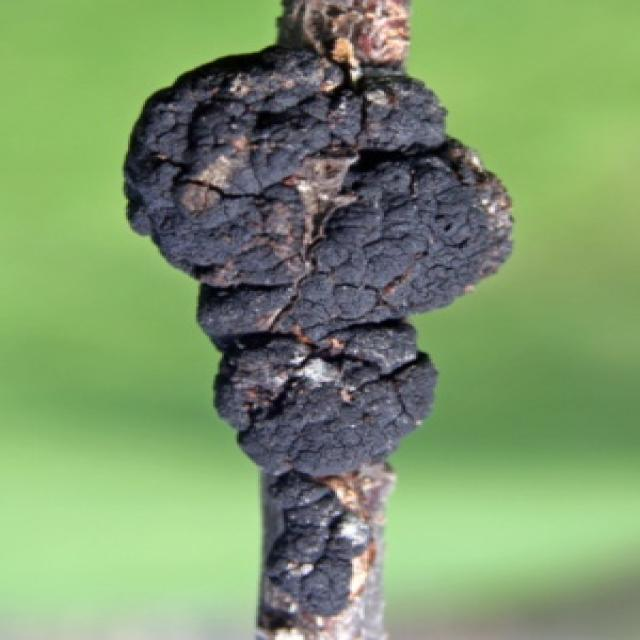Black_knot: (119, 0, 516, 638)
